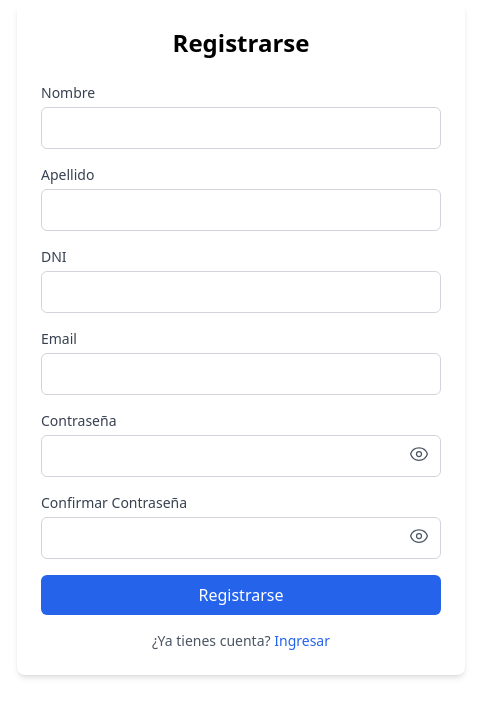
Test: RegisterForm › clears field error when user starts typing
Type "Pérez" into the field labelled "Apellido" at (241, 210), box [41, 189, 441, 231]
Type "12345678" into the field labelled "DNI" at (241, 292), box [41, 271, 441, 313]
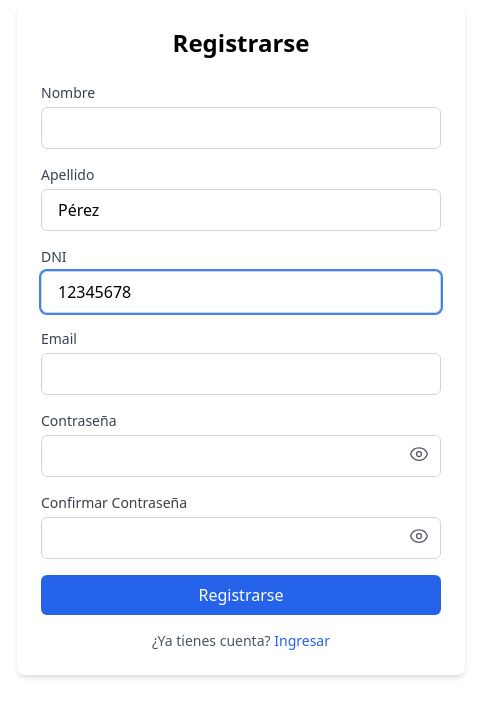
Type "juan@example.com" into the field labelled "Email" at (241, 374), box [41, 353, 441, 395]
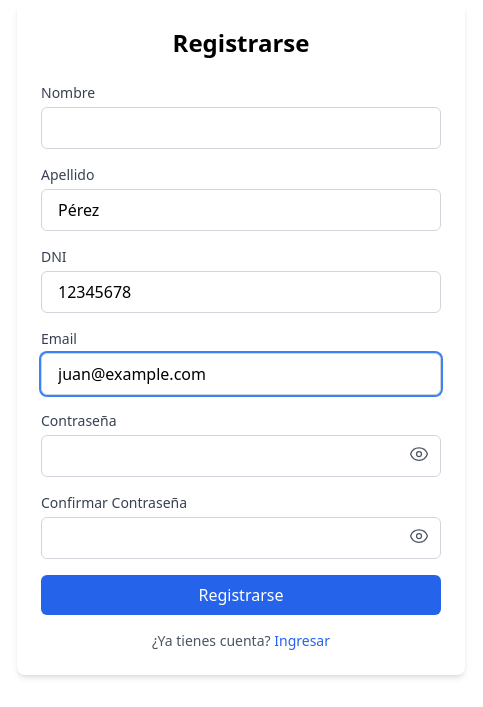
Type "Password123" into the password field labelled "Contraseña" at (241, 456), box [41, 435, 441, 477]
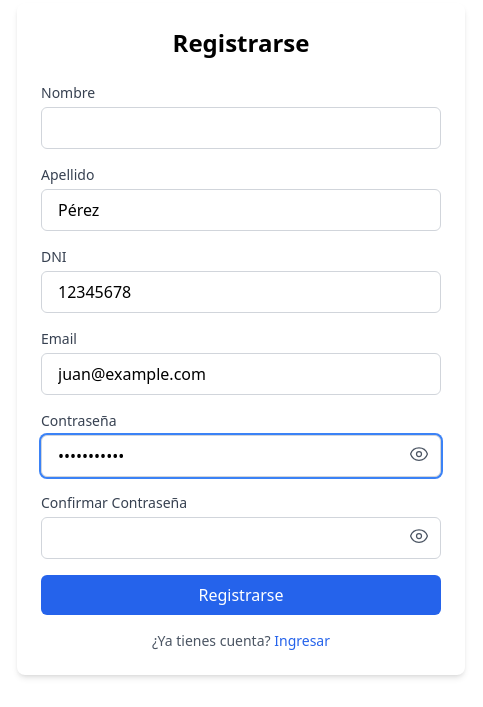
Type "Password123" into the password field labelled "Confirmar Contraseña" at (241, 538), box [41, 517, 441, 559]
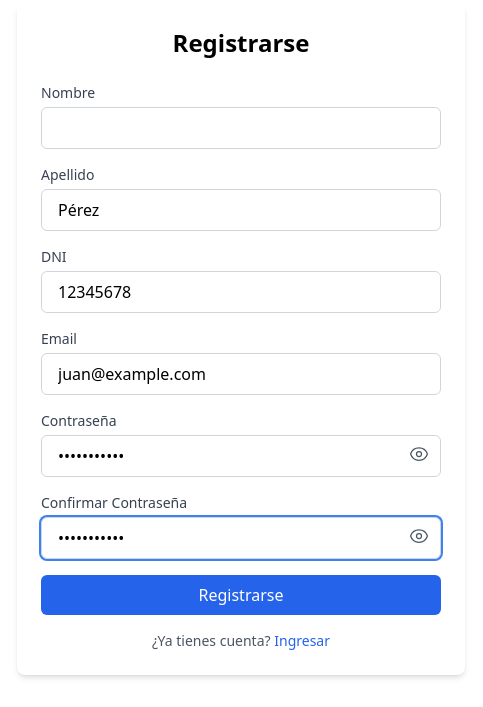
Click the button "Registrarse" at (241, 595), box [41, 575, 441, 615]
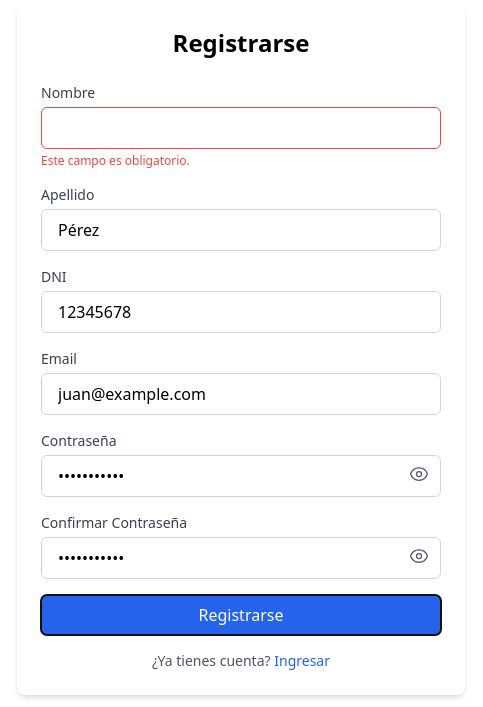
Now the text "Este campo es obligatorio." is shown, box [41, 152, 190, 169]
Type "Juan" into the field labelled "Nombre" at (241, 128), box [41, 107, 441, 149]
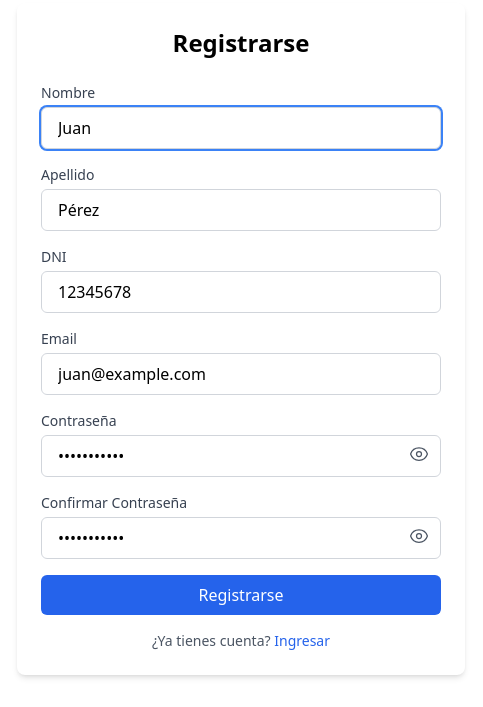
Now the text "Este campo es obligatorio" is gone
